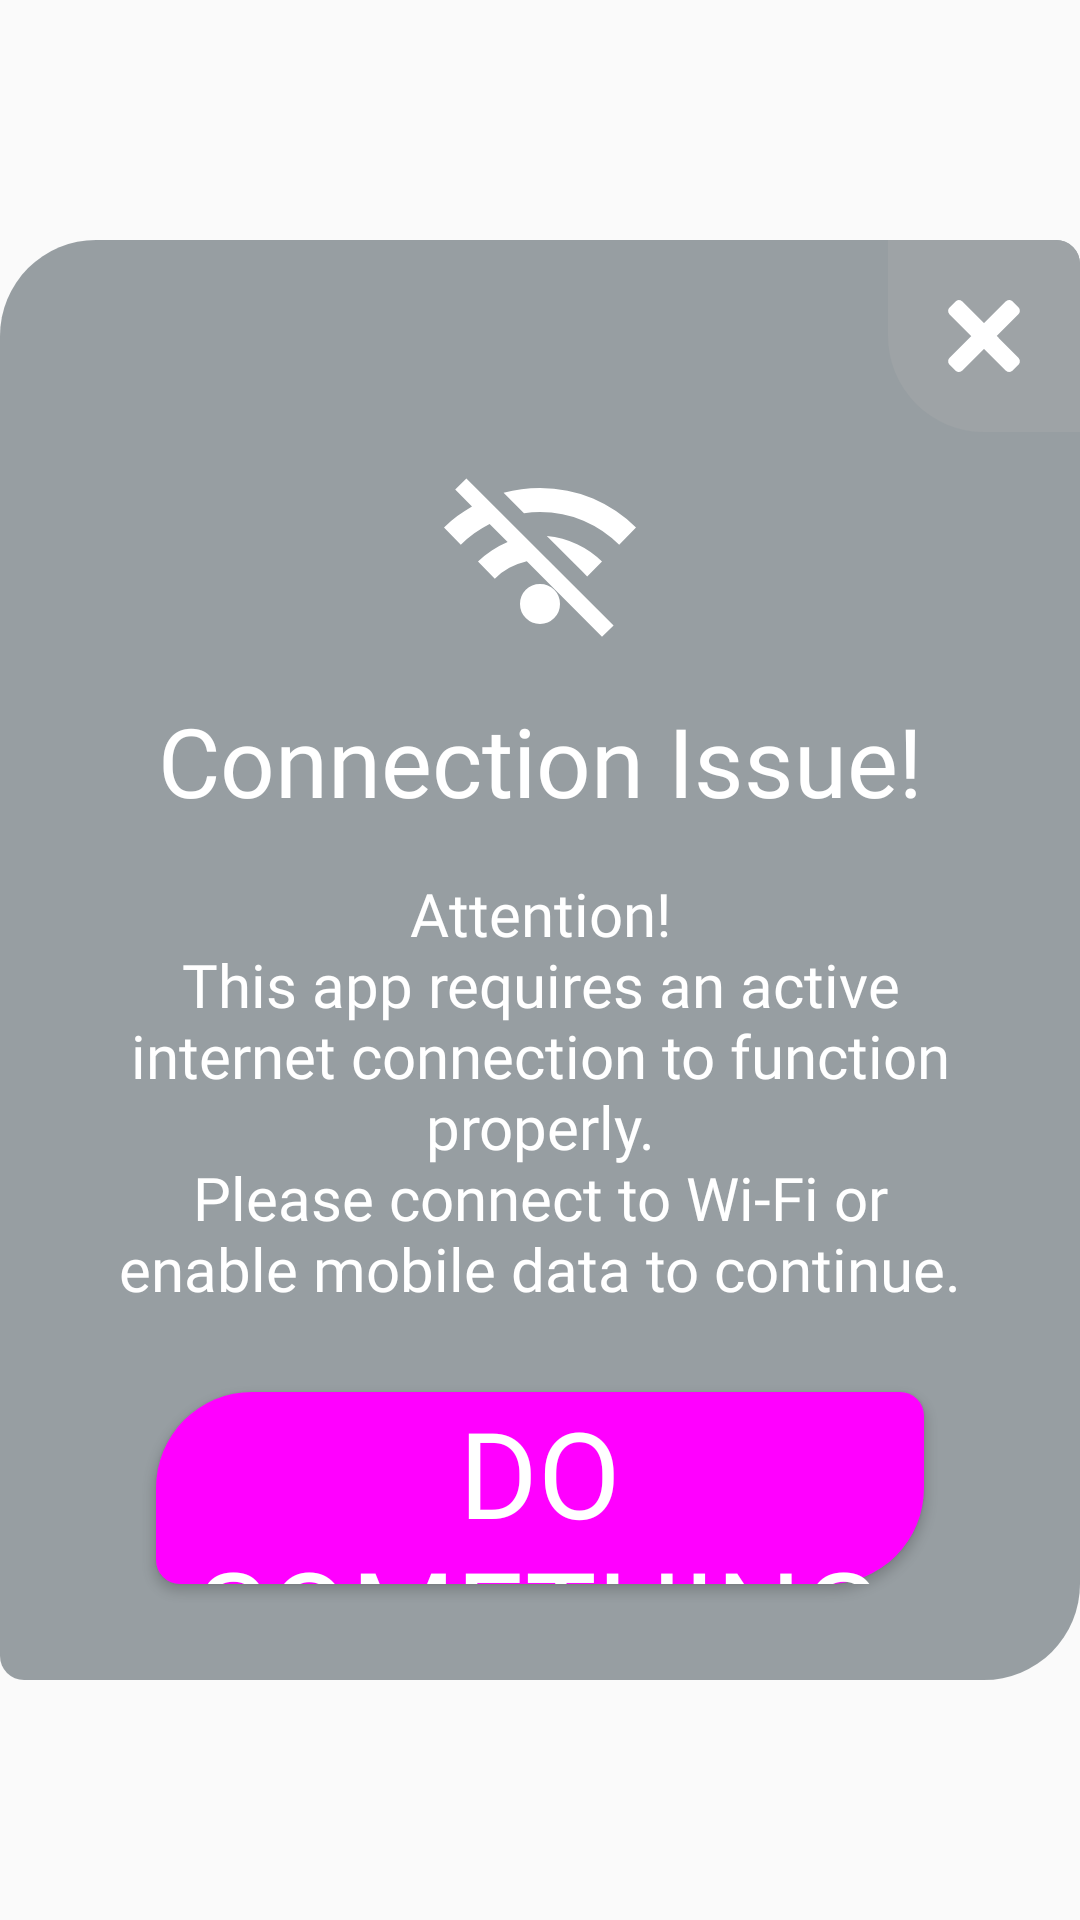

Named icons in this screenshot (1080px x 1920px) and their centers, point (x, y):
close: point (984, 336)
no wifi: point (540, 557)
